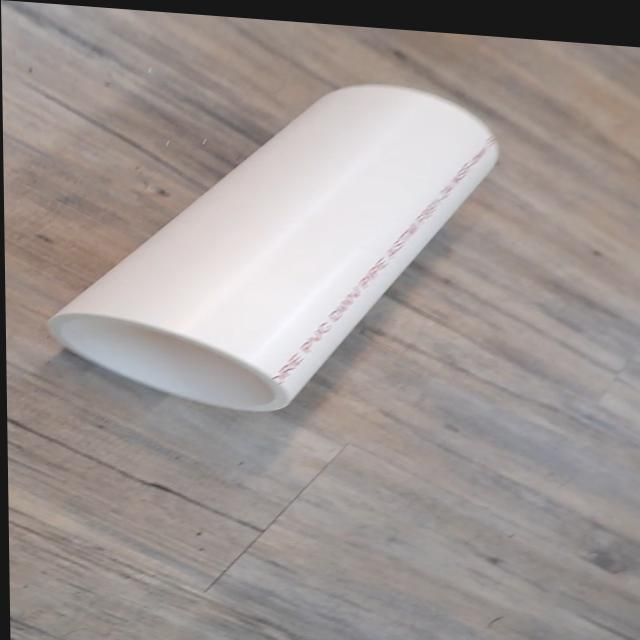CORAL: (37, 55, 524, 436)
